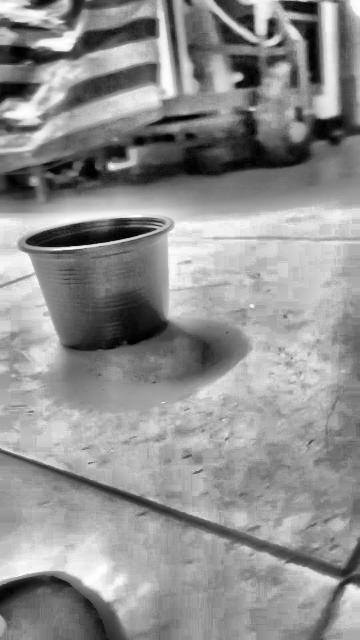pot: (19, 216, 173, 351), (0, 572, 126, 640)
